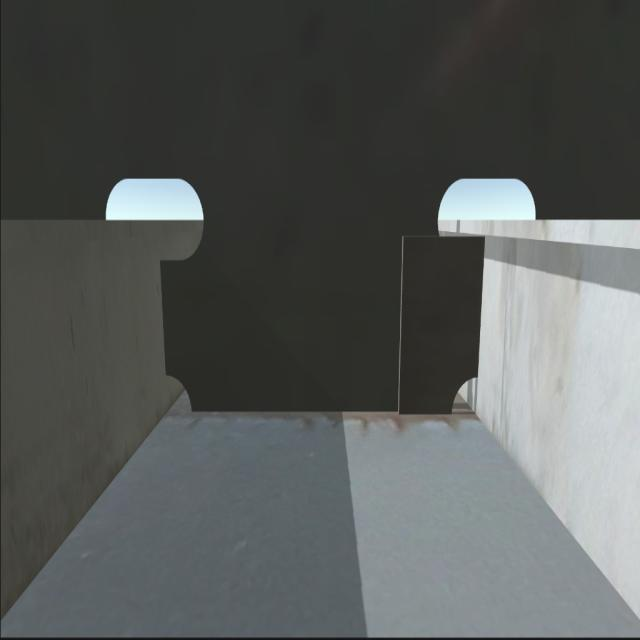fillet_hole: (445, 369, 485, 420), (165, 369, 189, 416)
fillet_yong_jeop_jang: (181, 400, 454, 421)
longi_yong_jeop_jang: (466, 237, 491, 383), (153, 263, 177, 377)
plate_CP01: (398, 237, 477, 418)
